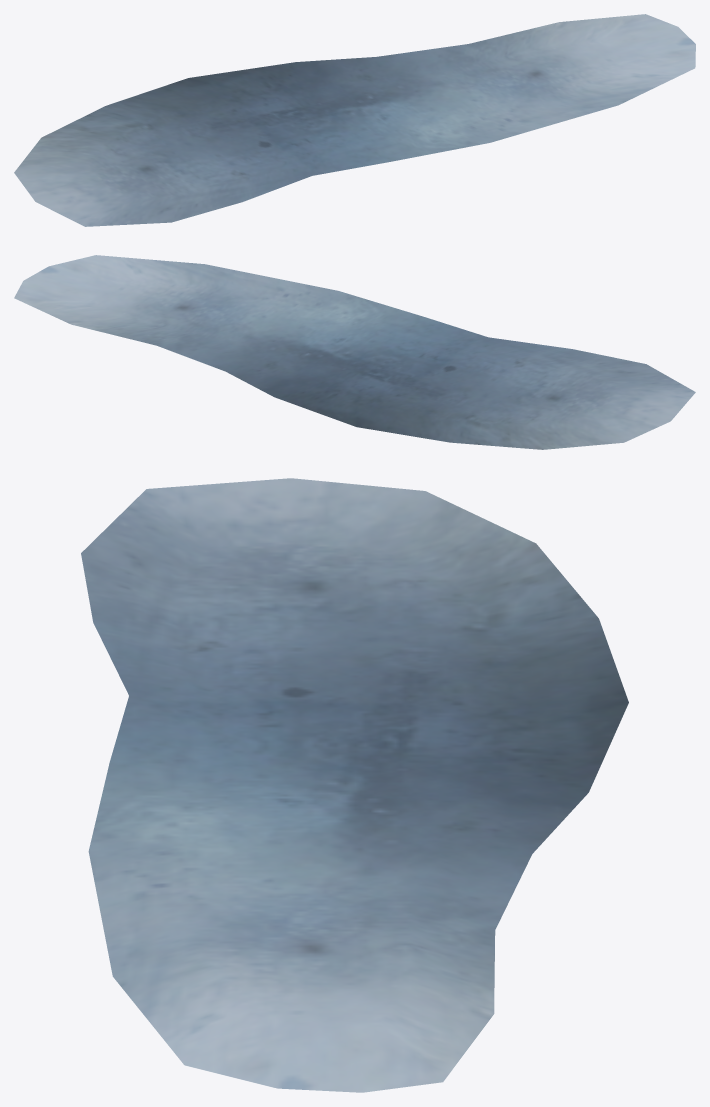
File: mprw_water_puddle.FBX
3 renders of one model, top to bottom at view 1: azimuth 30°, elevation 25°; view 2: azimuth 150°, elevation 25°; view 3: azimuth 270°, elevation 25°, orthographic. The views are drawn at different scales.
Parts seen in each view (by area): view 1: mprw_water_puddle; view 2: mprw_water_puddle; view 3: mprw_water_puddle.
Boxes of the visible parts, x1,y1,x2,y2 form: mprw_water_puddle: (14,14,695,226); mprw_water_puddle: (14,255,695,449); mprw_water_puddle: (81,478,628,1092).
Size of the model in its own units: 329 by 3.51e-14 by 124.
Materials: 1 (1 with a texture image).
